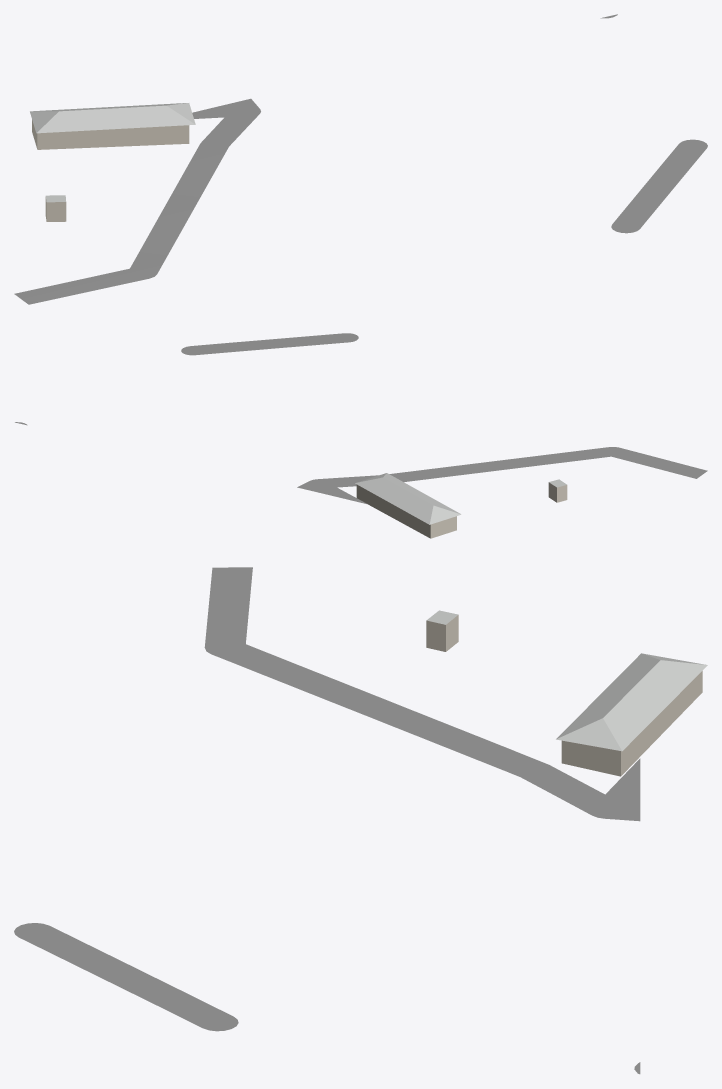
The model's file is bolak_4_6.glb.
3 views of the same model, one above another, from view 1: azimuth 30°, elevation 25°; view 2: azimuth 150°, elevation 25°; view 3: azimuth 270°, elevation 25° (orthographic). The views are drawn at different scales.
Parts seen in each view (by area): view 1: Yol_Mahalla-col, Tom_Shifer, Devor_Suvoq-col; view 2: Yol_Mahalla-col, Tom_Shifer, Devor_Suvoq-col; view 3: Yol_Mahalla-col, Tom_Shifer, Devor_Suvoq-col.
Boxes of the visible parts, bbox=[...] form: Yol_Mahalla-col: bbox=[14, 14, 707, 304]; Tom_Shifer: bbox=[30, 103, 195, 202]; Devor_Suvoq-col: bbox=[32, 120, 189, 221]; Yol_Mahalla-col: bbox=[15, 333, 707, 504]; Tom_Shifer: bbox=[355, 473, 566, 524]; Devor_Suvoq-col: bbox=[356, 482, 567, 538]; Yol_Mahalla-col: bbox=[14, 567, 640, 1074]; Tom_Shifer: bbox=[426, 610, 707, 751]; Devor_Suvoq-col: bbox=[426, 615, 702, 776].
Size of what is drawn, in the model's own units: 174 by 7.28 by 102.
